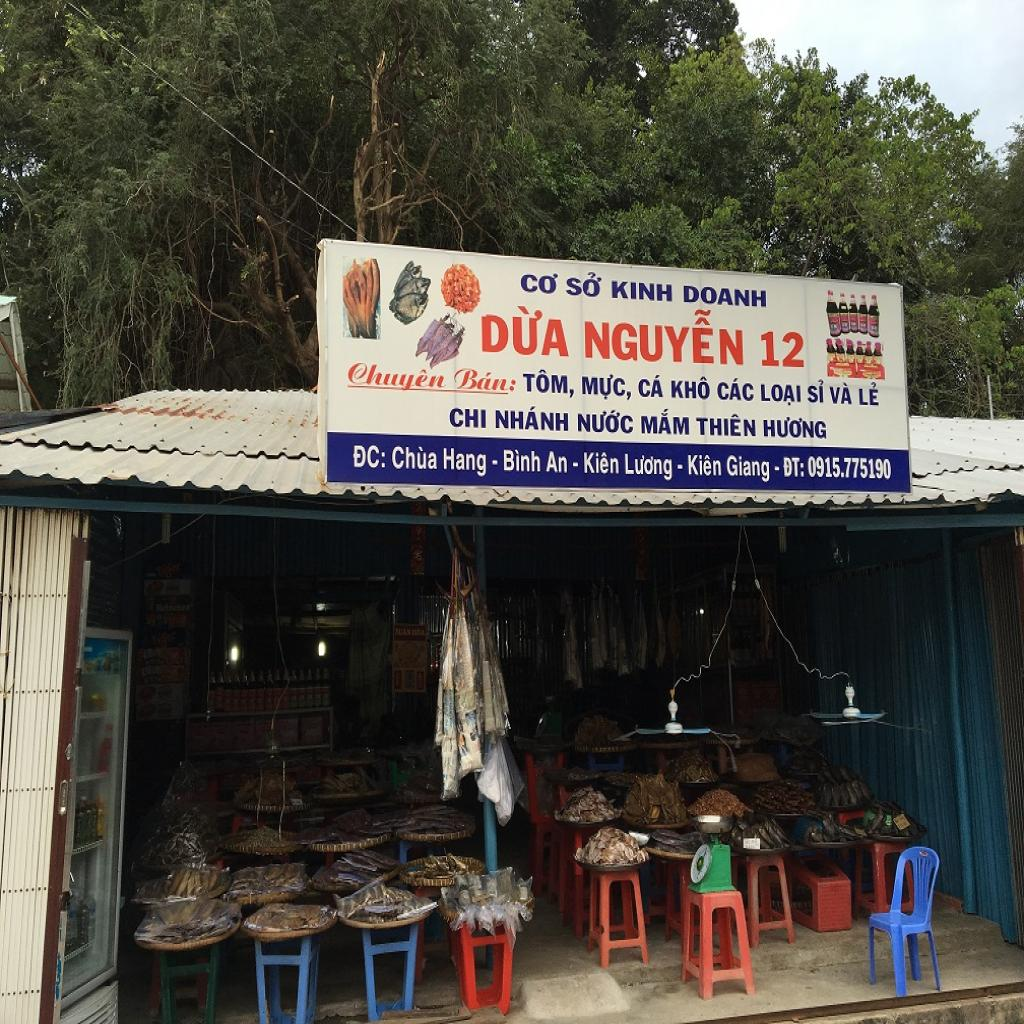text: (581, 303, 745, 367), (480, 305, 570, 359), (348, 359, 447, 394), (683, 283, 768, 310), (807, 455, 892, 482), (496, 404, 570, 434), (454, 362, 519, 396), (759, 328, 806, 371), (577, 406, 637, 438), (521, 367, 578, 400), (693, 410, 757, 439), (581, 372, 634, 404), (641, 406, 692, 439), (610, 278, 674, 304), (762, 415, 828, 440), (389, 444, 440, 474), (725, 452, 771, 484), (442, 446, 487, 478), (759, 380, 803, 410), (671, 374, 713, 404), (565, 270, 604, 302), (351, 442, 386, 474), (504, 448, 543, 476), (582, 450, 621, 478), (716, 375, 756, 402), (519, 270, 560, 296), (449, 405, 488, 429), (686, 454, 723, 479), (154, 556, 183, 582), (826, 380, 852, 408), (637, 373, 666, 398), (856, 381, 881, 409), (804, 376, 827, 406), (782, 457, 806, 482), (544, 451, 570, 474), (156, 602, 192, 614), (393, 626, 414, 638), (411, 627, 428, 639)
